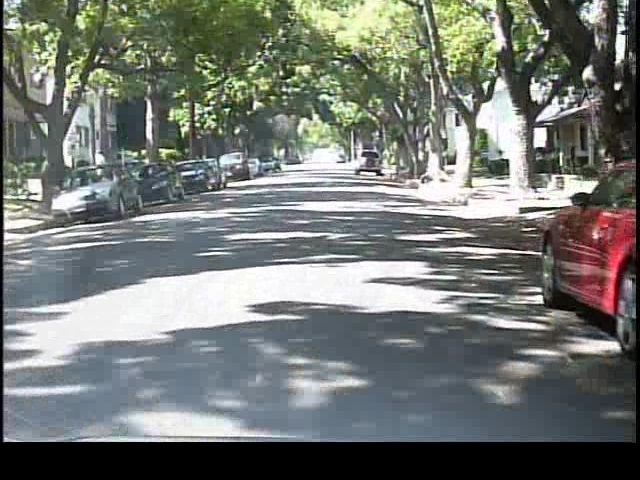person: (85, 144, 111, 196)
